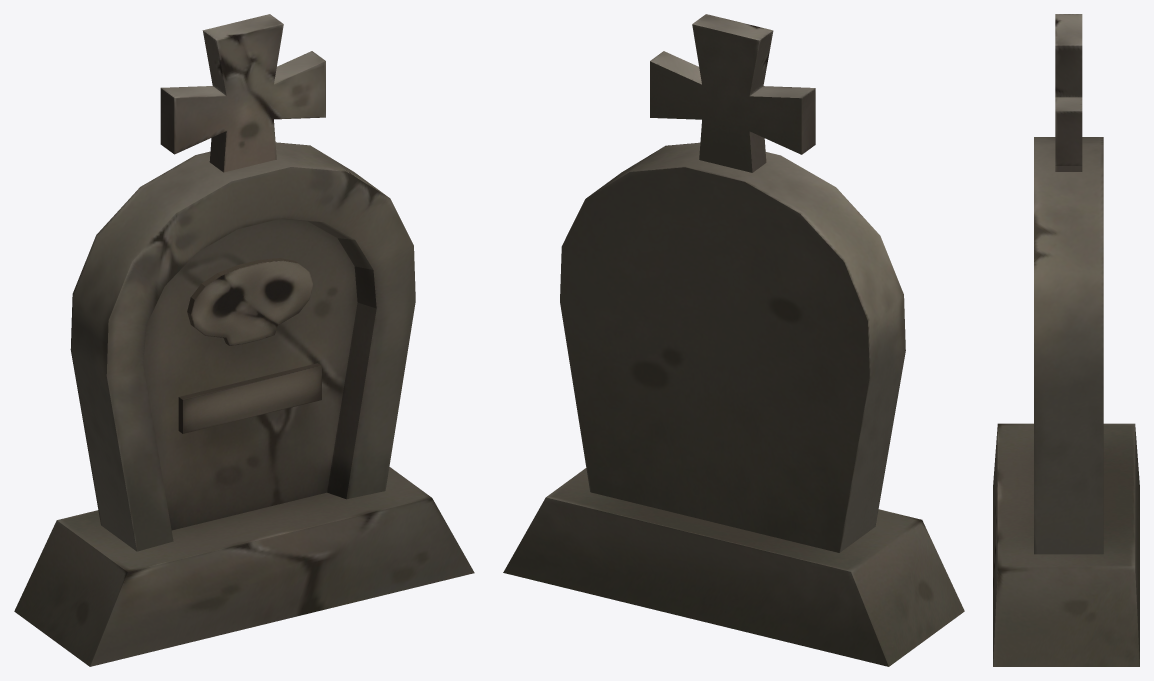
The model's file is gravestoneA.fbx.
The picture shows the model from 3 angles, left to right: view 1: azimuth 30°, elevation 25°; view 2: azimuth 150°, elevation 25°; view 3: azimuth 270°, elevation 25°; orthographic projection. The views are drawn at different scales.
Parts seen in each view (by area): view 1: gravestone_001; view 2: gravestone_001; view 3: gravestone_001.
Boxes of the visible parts, x1,y1,x2,y2 form: gravestone_001: (14,14,474,666); gravestone_001: (503,14,964,666); gravestone_001: (993,14,1139,666).
Bounding box in the file's own units: 133 × 187 × 45.52.
